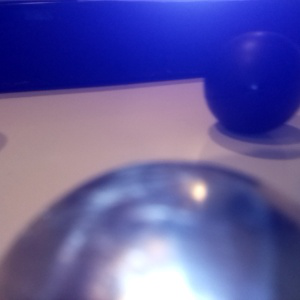alive_ball: (1, 158, 300, 300)
dead_ball: (204, 31, 300, 136)
